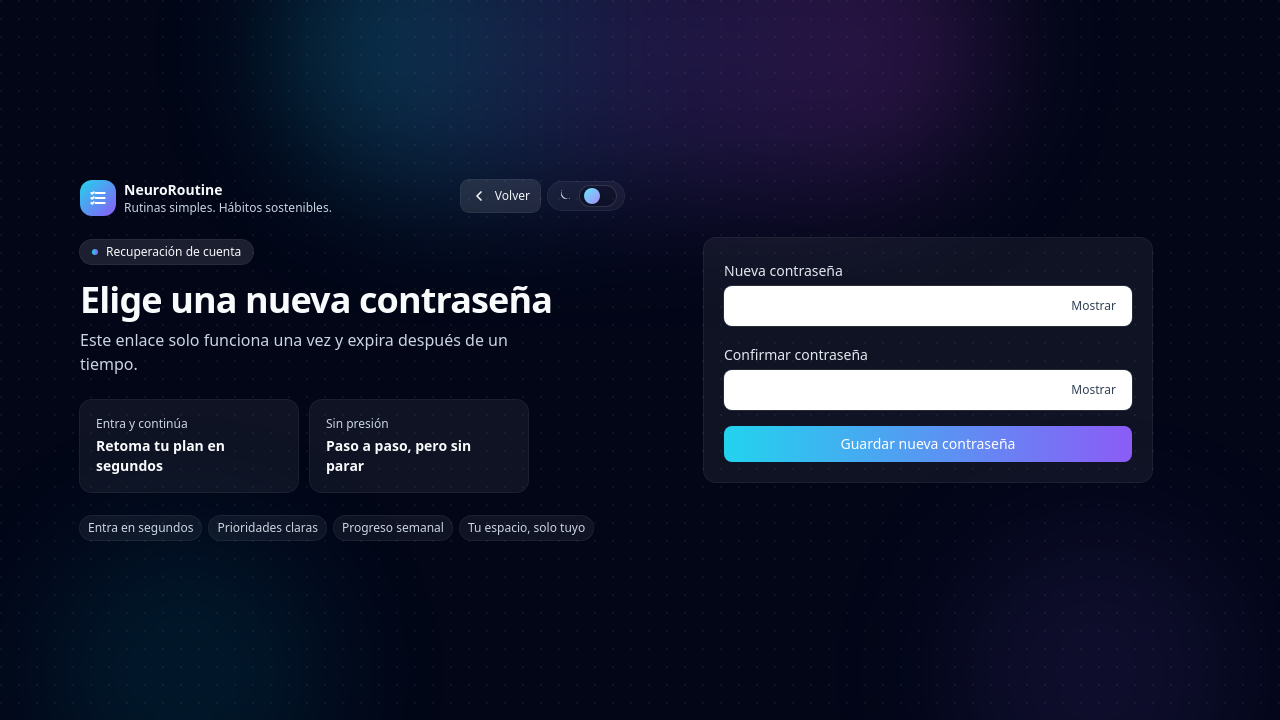
Scenario: ResetPasswordPage › shows a validation error when passwords do not match
Step 1. Type "supersecret1" into the password field labelled "Nueva contraseña" → coordinates (928, 306), box [724, 286, 1132, 326]
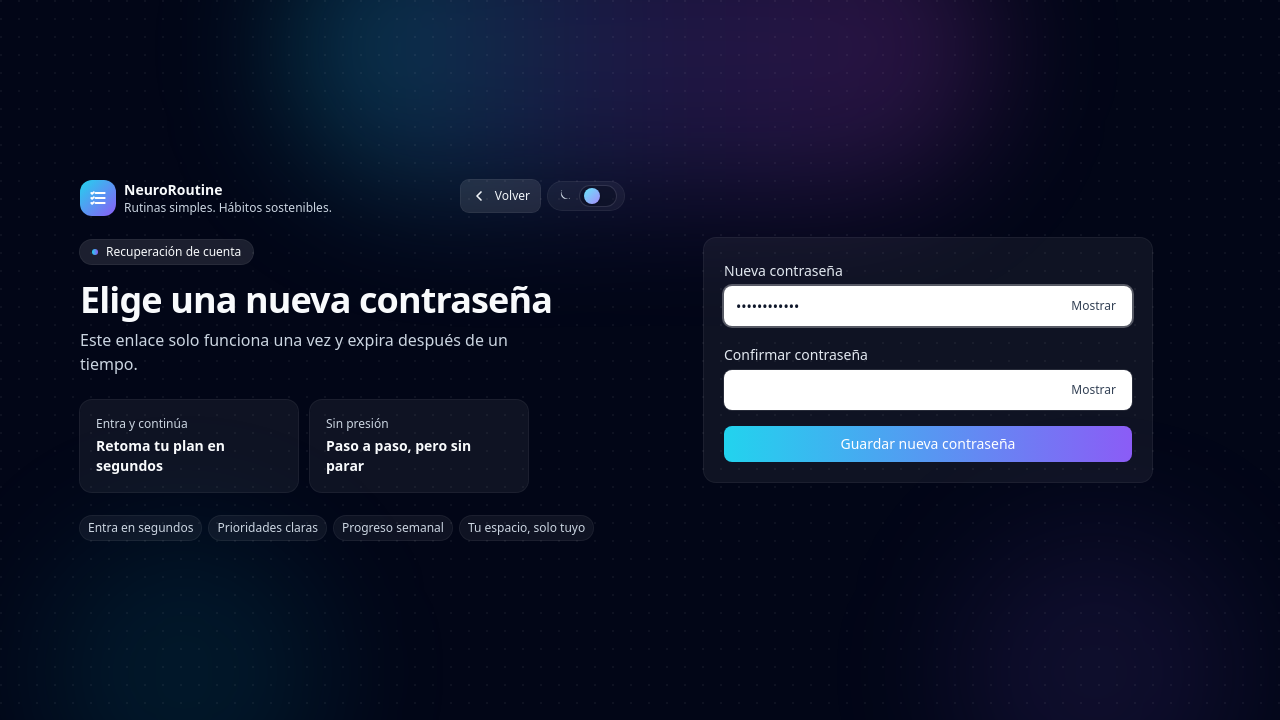
Step 2. Type "different12" into the password field labelled "Confirmar contraseña" → coordinates (928, 390), box [724, 370, 1132, 410]
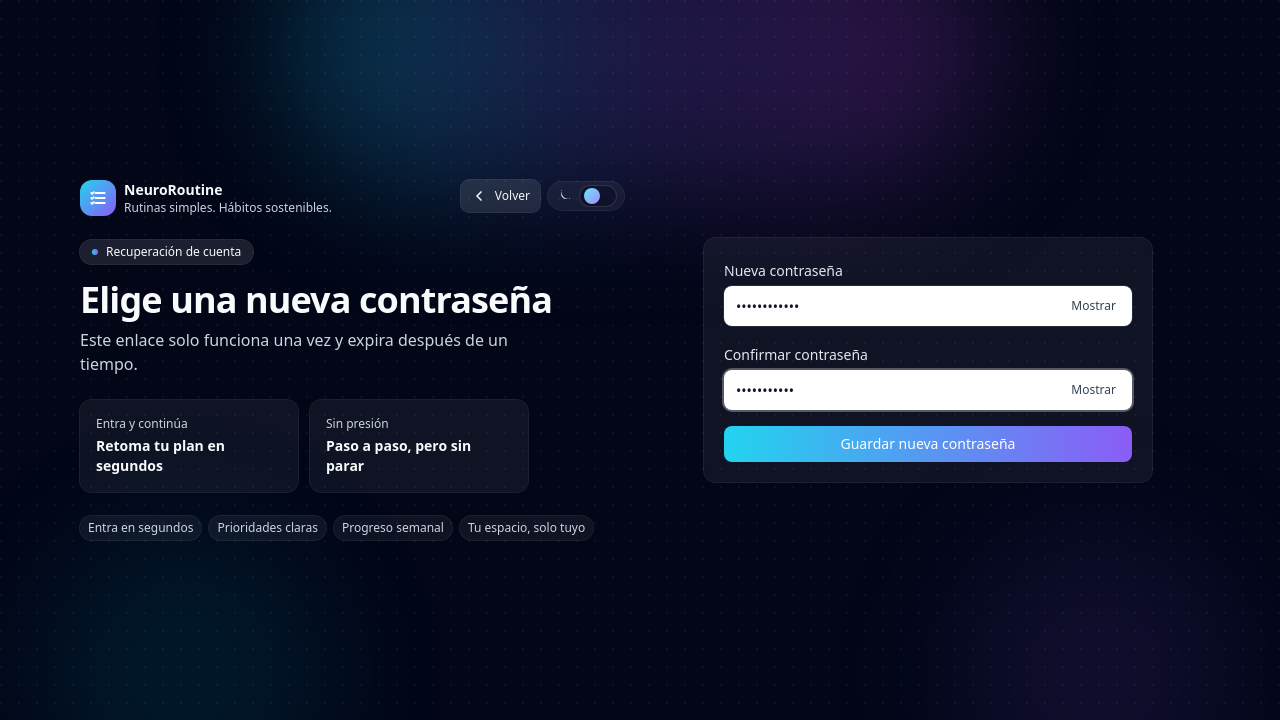
Step 3. Click the button "Guardar nueva contraseña" → coordinates (928, 444), box [724, 426, 1132, 462]
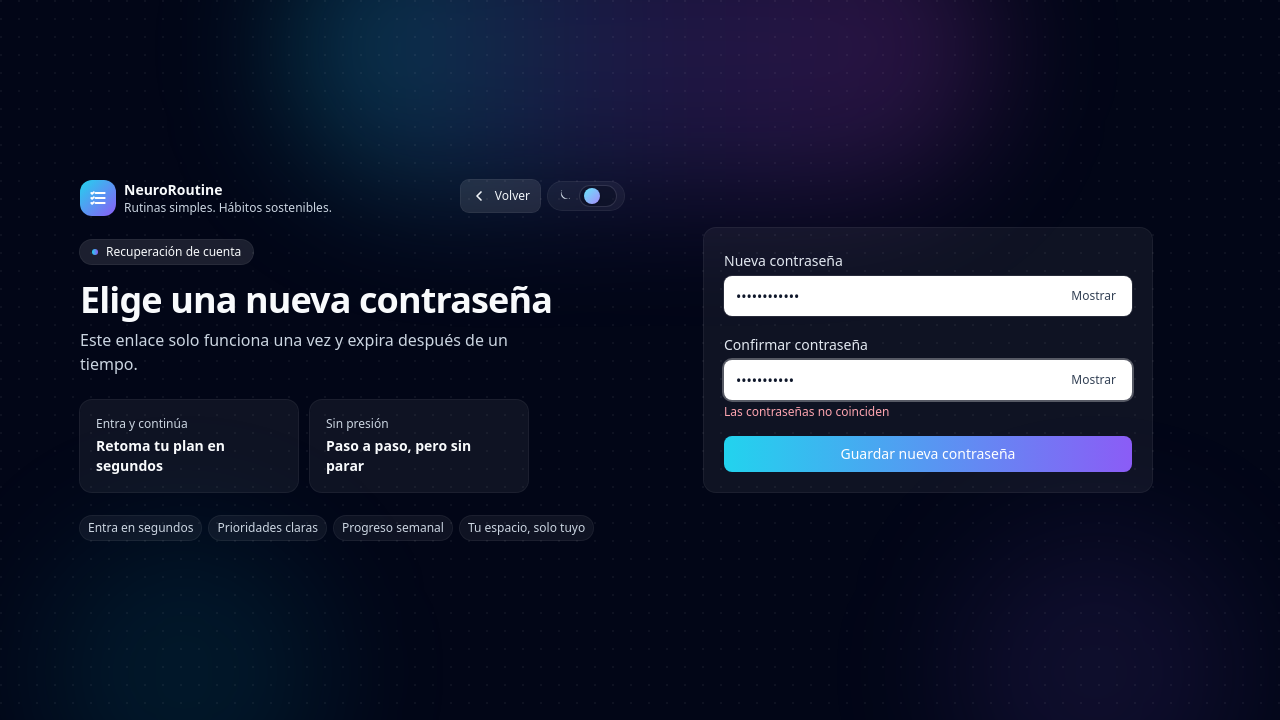
expect the text "Las contraseñas no coinciden" is shown: met, box [724, 403, 889, 420]
